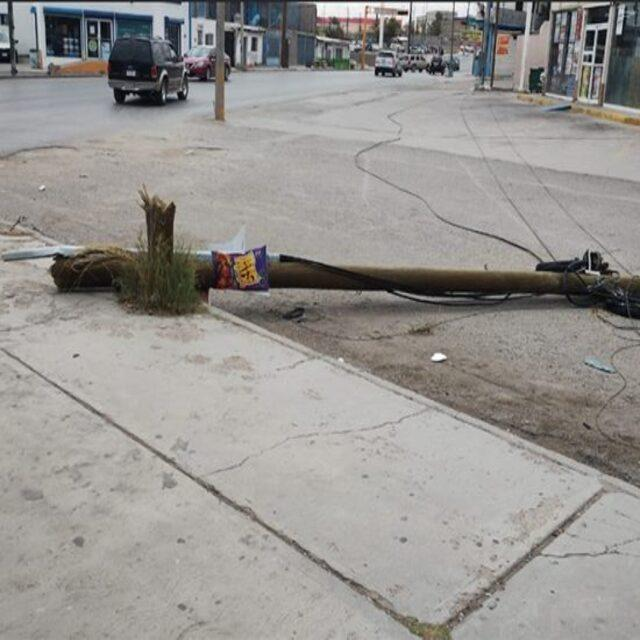Inclined Pole: (47, 178, 640, 349)
